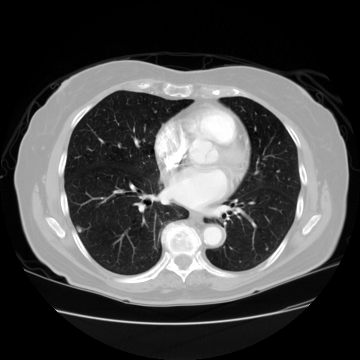nodule: (76, 226, 82, 232)
